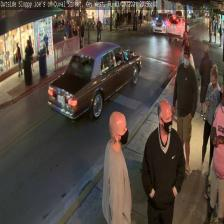person: (140, 100, 186, 224), (172, 45, 198, 178), (102, 111, 131, 224), (198, 63, 222, 175)
